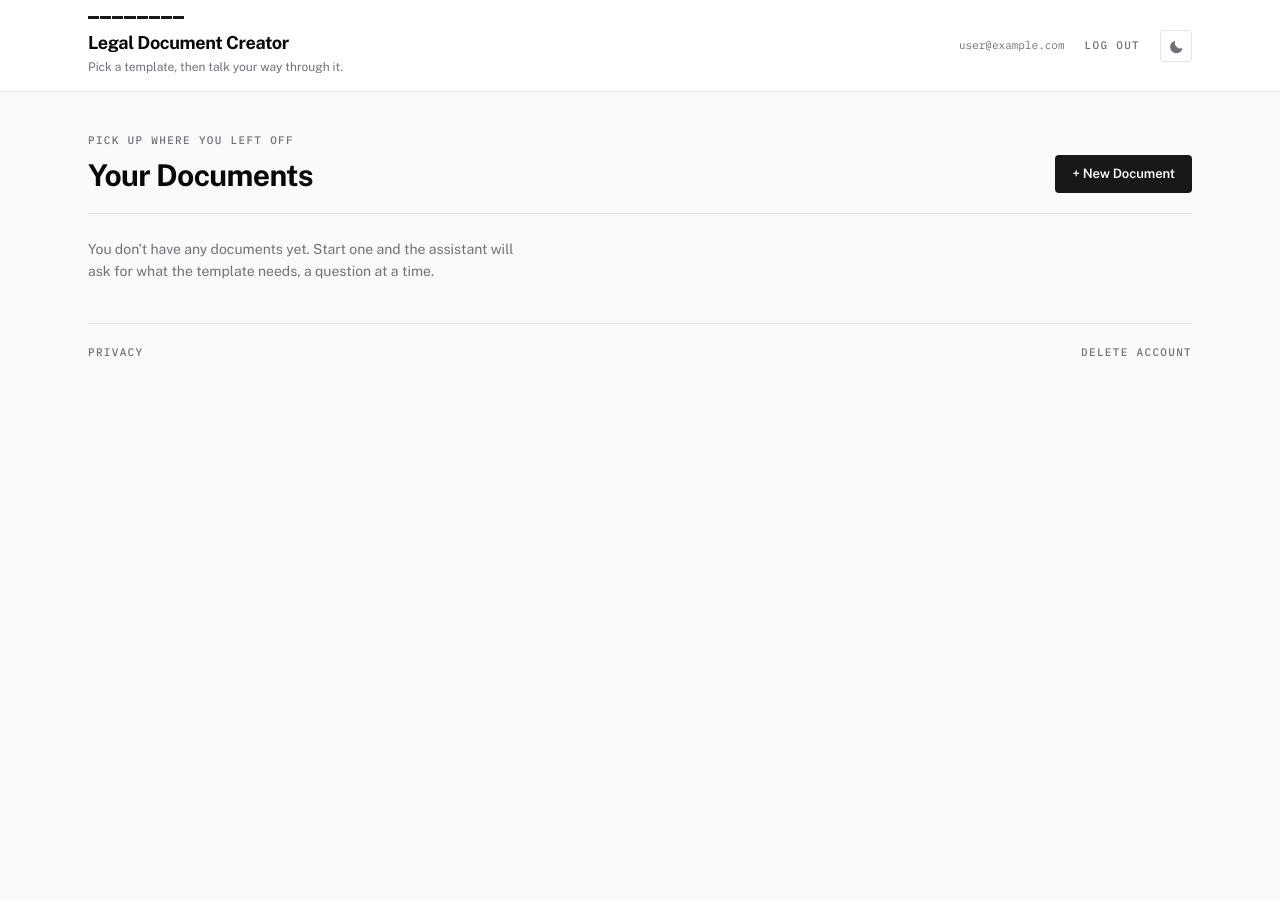
Test: Home (auth-gated multi-user flow) › creates a new document from the dashboard menu and enters the creator
What coordinates should you click on to do the following:
click the button "+ New Document"
I would click on:
 (1124, 174)
Its box is [1055,155,1192,192].
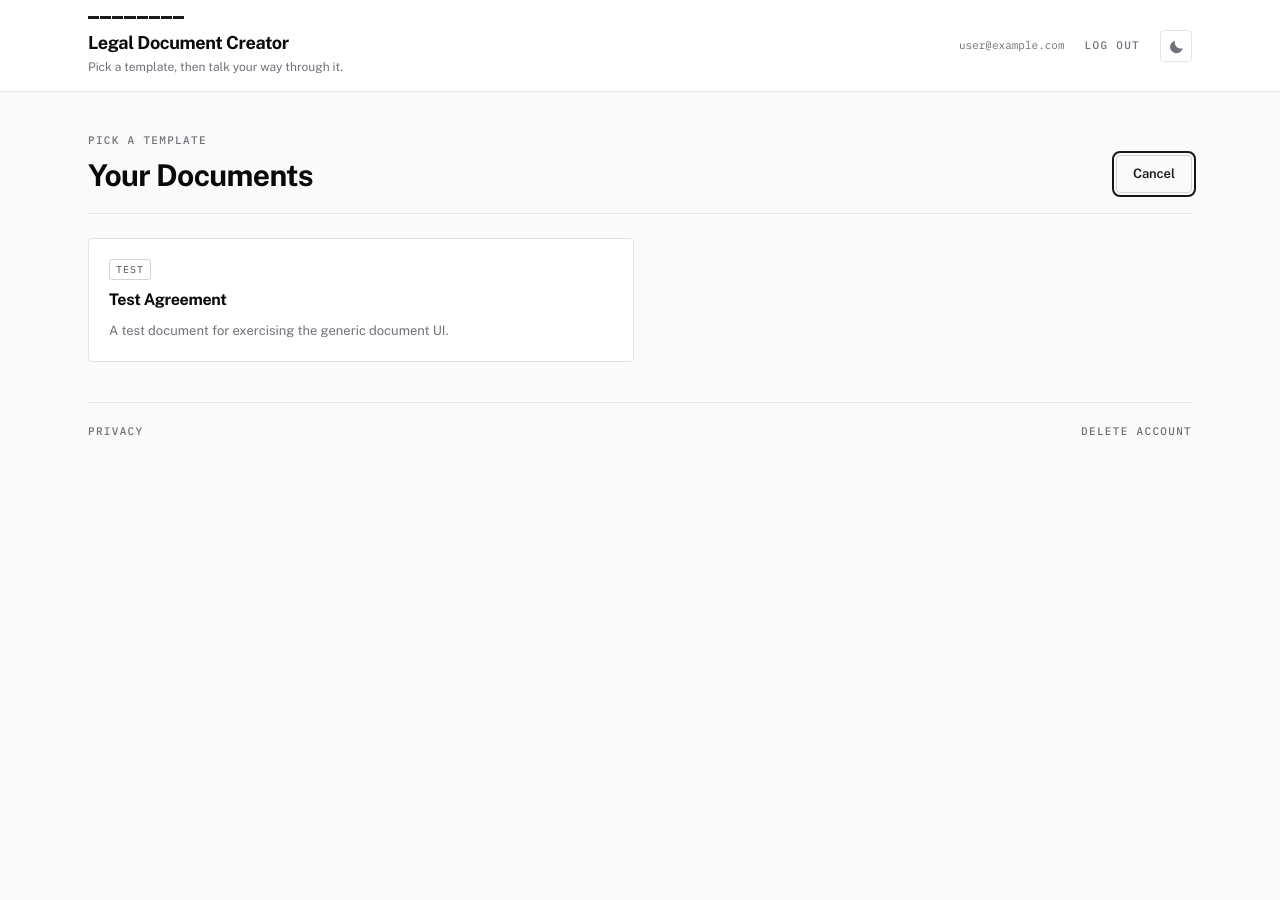
What coordinates should you click on to do the following:
click the button "Test Agreement"
I would click on:
 (130, 269)
Its box is [88,238,634,362].
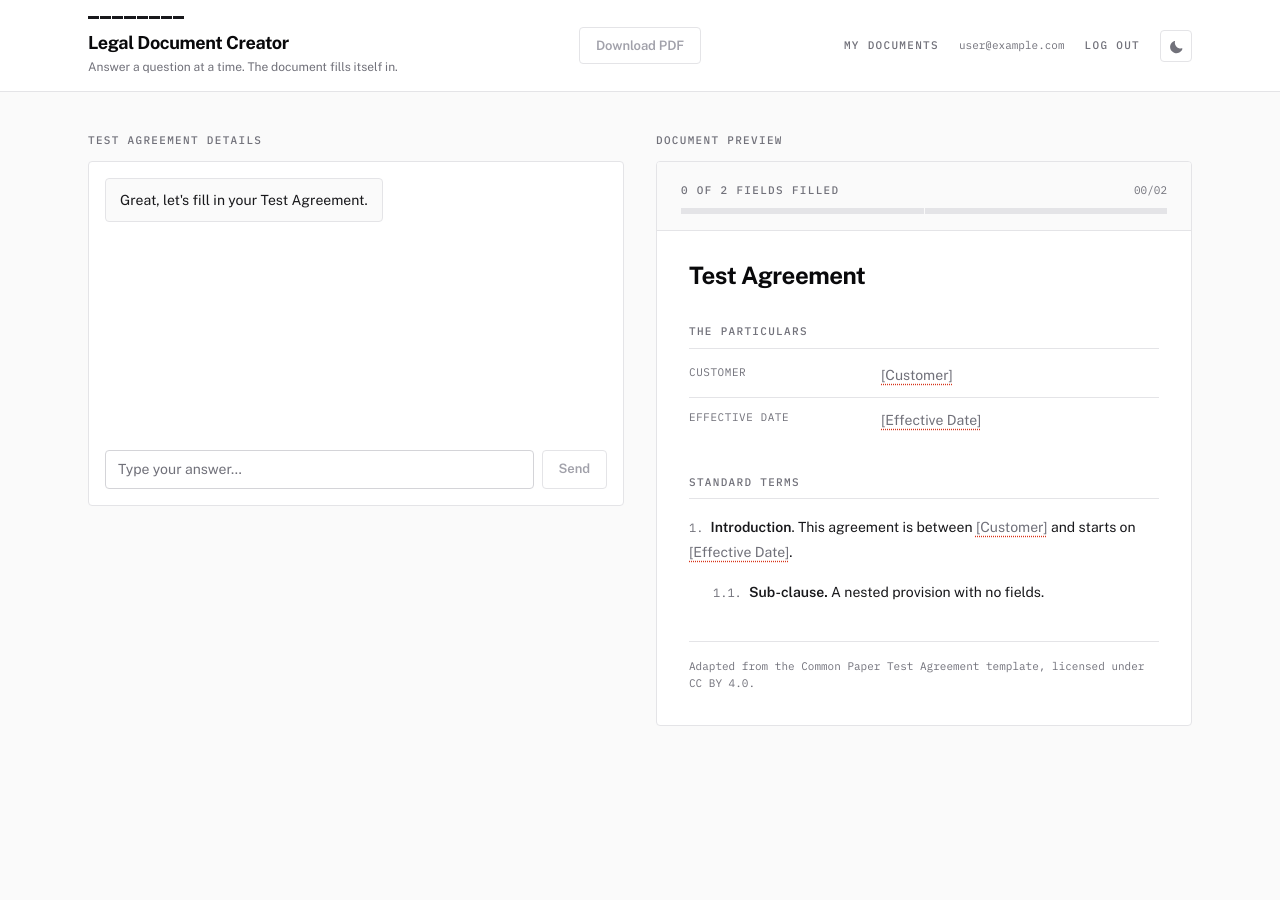
expect the heading "Test Agreement Details" is shown: met, box [88,133,262,147]
expect the text "Great, let's fill in your Test Agreement." is shown: met, box [105,178,383,222]
